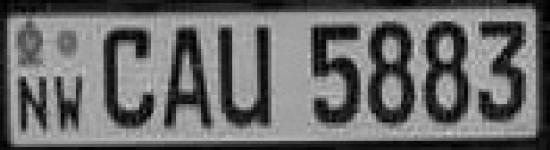3: (473, 14, 535, 131)
5: (303, 20, 367, 134)
8: (419, 17, 474, 131), (364, 19, 420, 129)
A: (161, 24, 217, 133)
C: (100, 23, 160, 134)
N: (12, 74, 53, 137)
U: (216, 22, 292, 137)
W: (51, 69, 91, 138)
